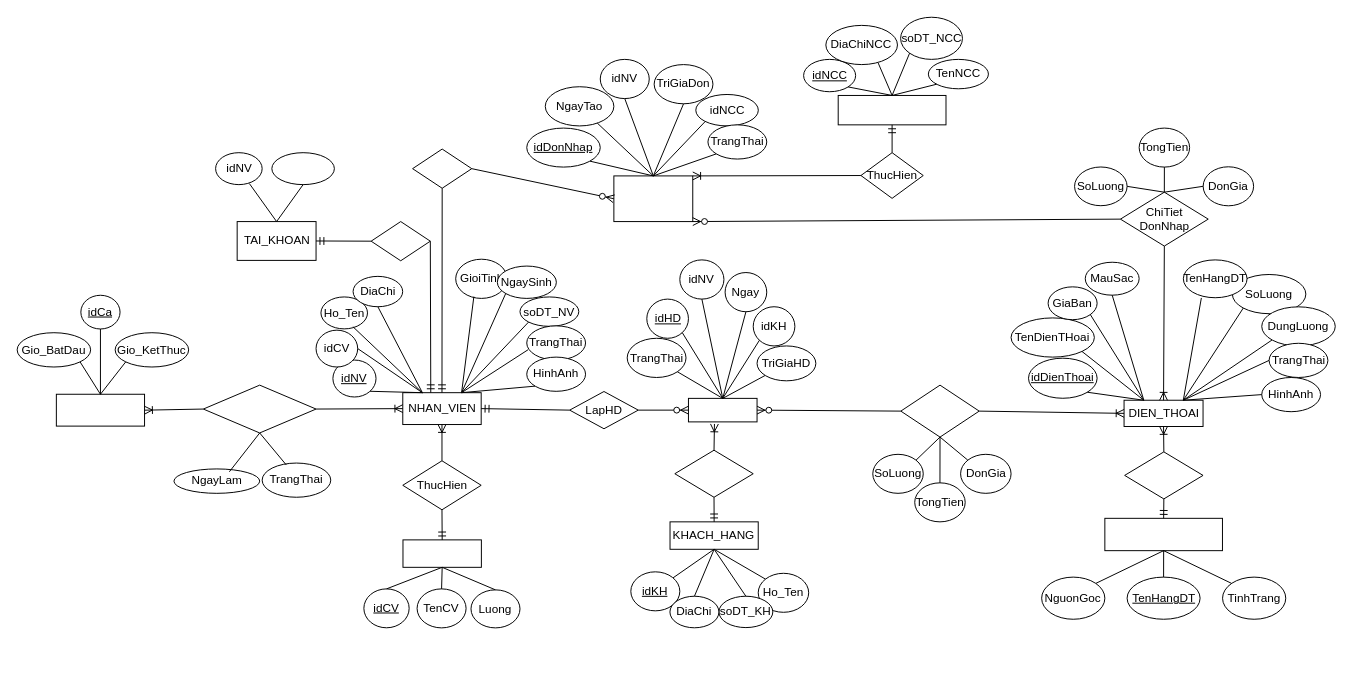
Image size: 1352x689. Some labels were removed from this diagram. The centre of each missing label's shape, as x and y in pixels:
BangPhanCa: the point at 259,408
CA_LAM_VIEC: the point at 100,409
ChiTiet HoaDon: the point at 939,410
CONG_VIEC: the point at 441,553
có: the point at 400,241
DON_NHAP: the point at 653,198
HANG_DIEN_THOAI: the point at 1163,534
HOA_DON: the point at 722,409
LenDon: the point at 442,168
MatKhau: the point at 302,168
NHA_CUNG_CAP: the point at 891,109
ThanhToan: the point at 713,473
Thuoc: the point at 1163,475
